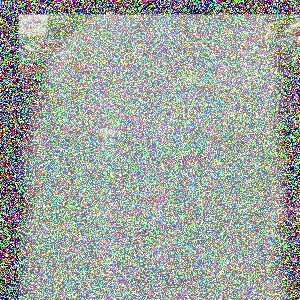Bacterial_Leaf_Blight: (134, 266, 190, 290), (167, 143, 211, 171), (91, 118, 128, 143), (132, 218, 169, 242), (39, 93, 67, 118)
